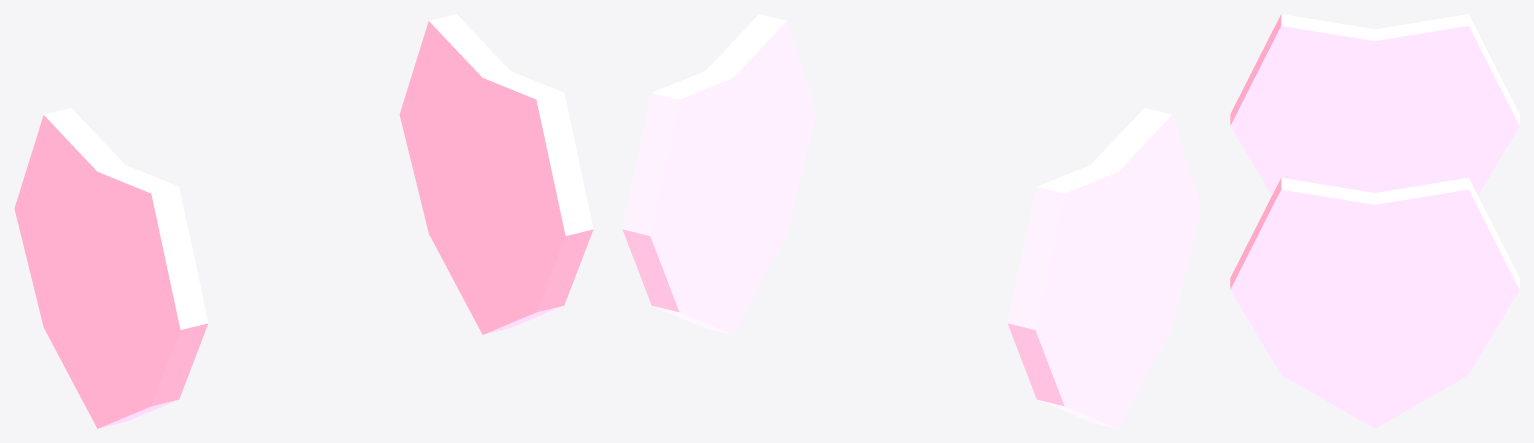
Rendered from BLACKPINK_LICHT.glb.
3 views of the same model, side by side, from view 1: azimuth 30°, elevation 25°; view 2: azimuth 150°, elevation 25°; view 3: azimuth 270°, elevation 25° (orthographic). The views are drawn at different scales.
Bounding box in the file's own units: 0.2312 × 0.147 × 0.161.
